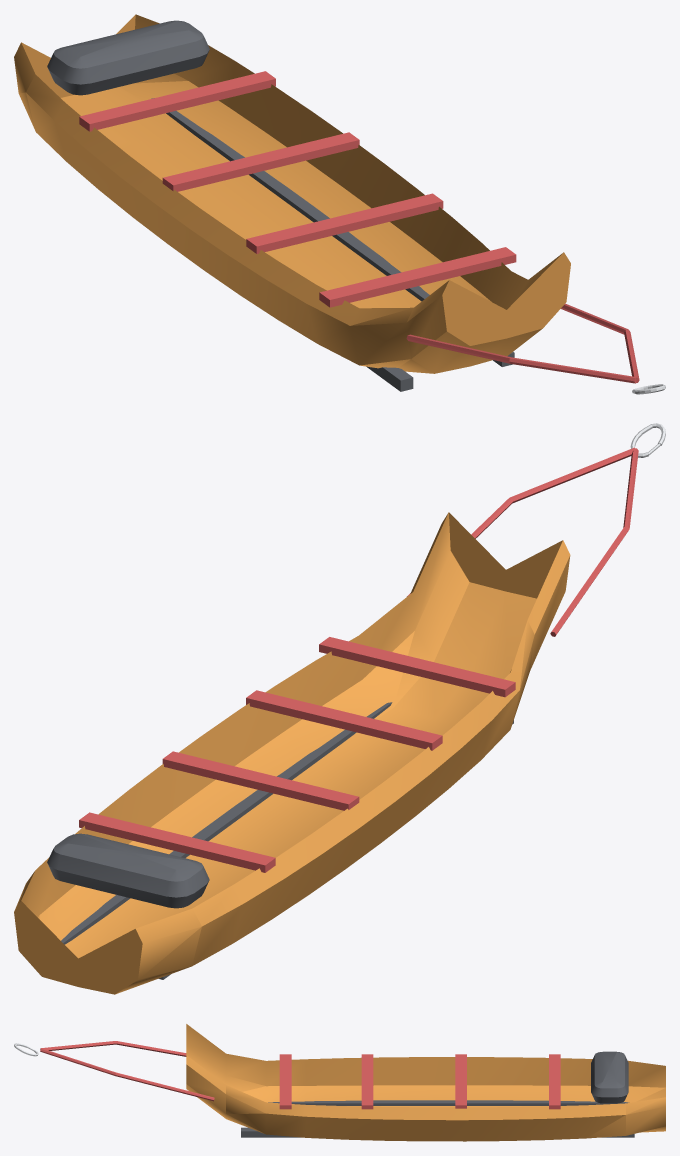
The model's file is mountaineering-and-summit-expedition-plastic-rescue-sl-94467978__18810.glb.
3 renders of one model, top to bottom at view 1: azimuth 30°, elevation 25°; view 2: azimuth 150°, elevation 25°; view 3: azimuth 270°, elevation 25°, orthographic. The views are drawn at different scales.
Parts seen in each view (by area): view 1: plastic-rescue-sled; view 2: plastic-rescue-sled; view 3: plastic-rescue-sled.
Part boxes in pixels (x1,y1,x2,y2): plastic-rescue-sled: (14,14,665,394); plastic-rescue-sled: (14,423,665,994); plastic-rescue-sled: (14,1024,665,1141).
Bounding box in the file's own units: 0.5711 × 0.3914 × 2.79.
